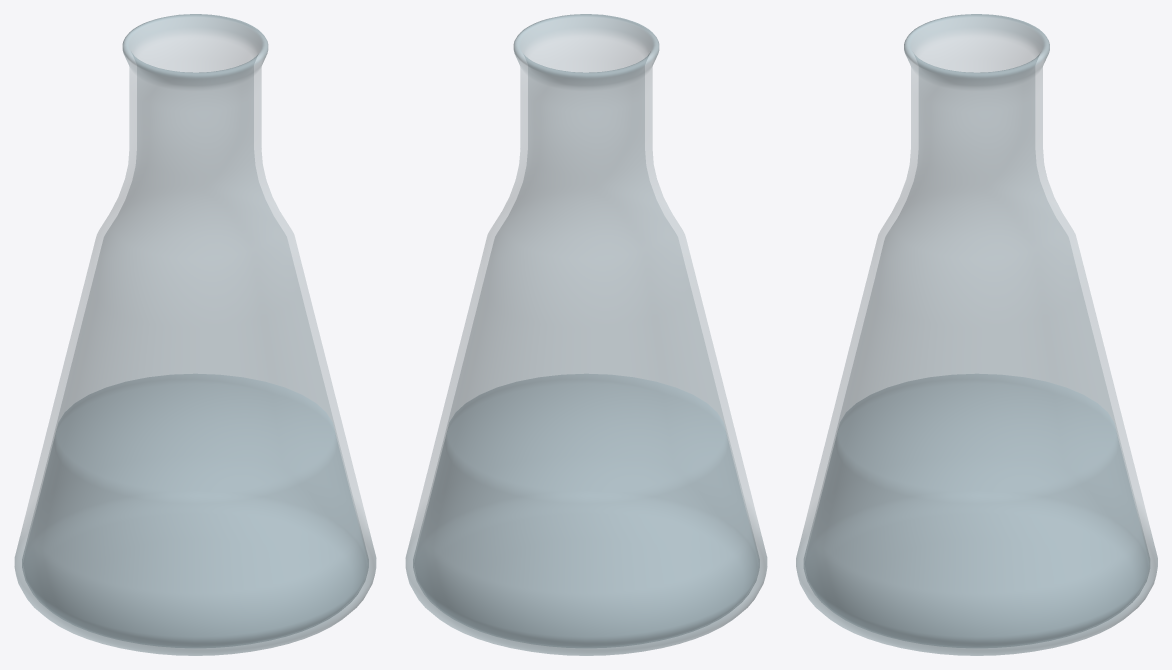
Rendered from erlenmeyer-250ml.glb.
3 renders of one model, left to right at view 1: azimuth 30°, elevation 25°; view 2: azimuth 150°, elevation 25°; view 3: azimuth 270°, elevation 25°, orthographic.
Parts seen in each view (by area): view 1: erlenmeyer-250ml-glass, erlenmeyer-250ml-inner; view 2: erlenmeyer-250ml-glass, erlenmeyer-250ml-inner; view 3: erlenmeyer-250ml-glass, erlenmeyer-250ml-inner.
Part boxes in pixels (left/top/right/bottom): erlenmeyer-250ml-glass: left=14, top=14, right=376, bottom=655; erlenmeyer-250ml-inner: left=23, top=374, right=367, bottom=646; erlenmeyer-250ml-glass: left=405, top=14, right=767, bottom=655; erlenmeyer-250ml-inner: left=414, top=374, right=758, bottom=646; erlenmeyer-250ml-glass: left=796, top=14, right=1157, bottom=655; erlenmeyer-250ml-inner: left=805, top=374, right=1148, bottom=646.
Size of what is drawn, in the model's own units: 8.5 by 14.12 by 8.48.
